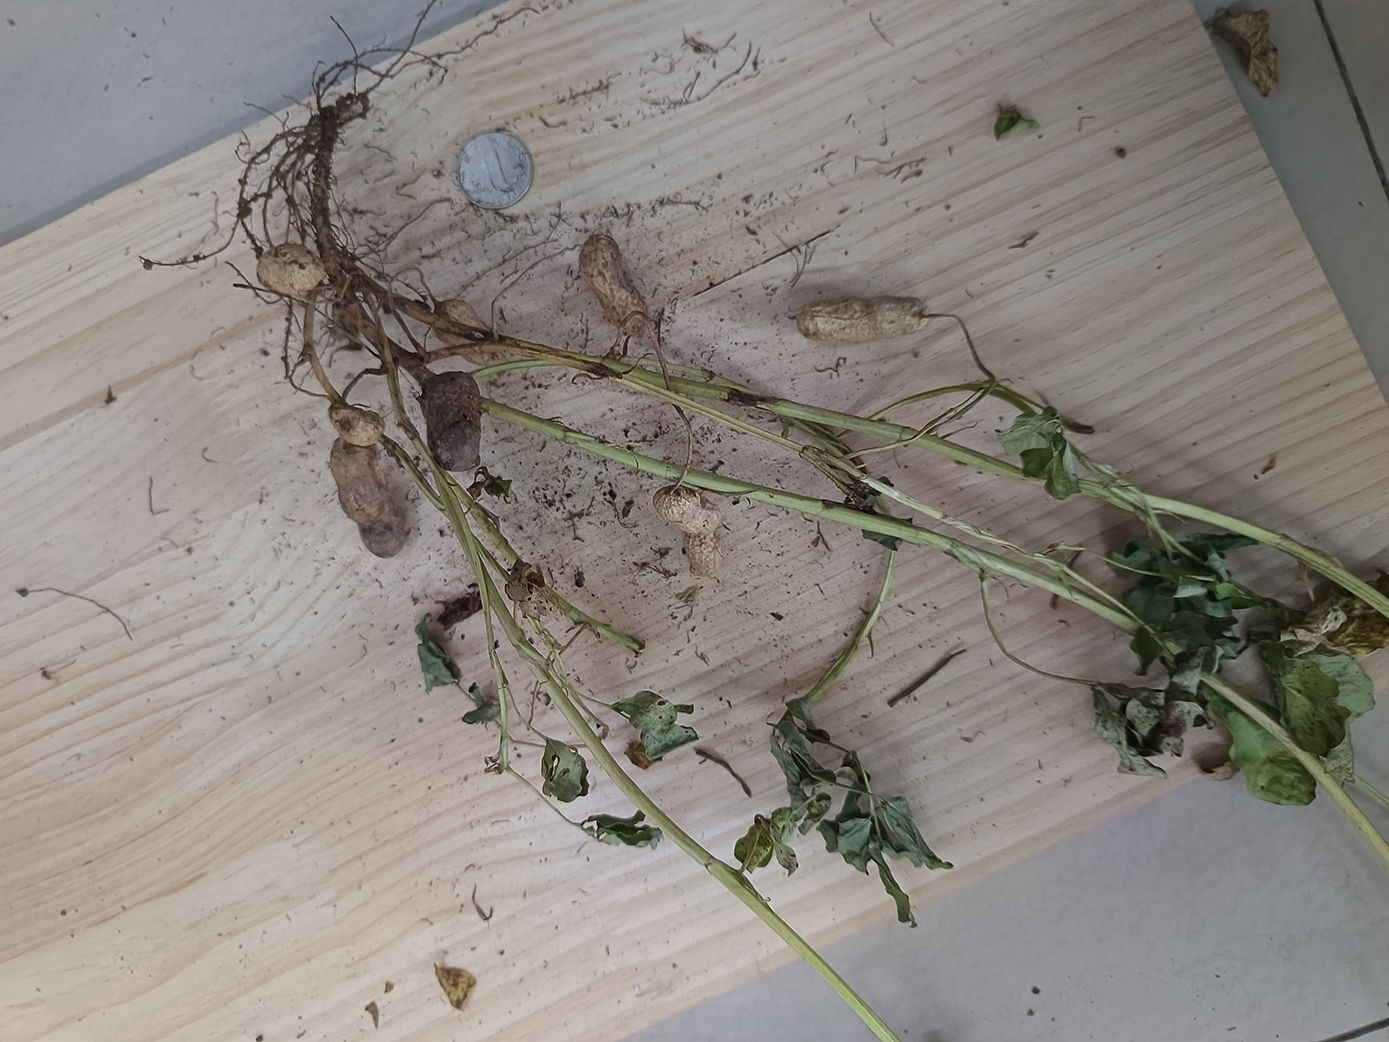h: (577, 233, 651, 337), (653, 483, 725, 577), (796, 296, 929, 341), (430, 297, 507, 368), (256, 242, 326, 296), (327, 401, 384, 448)
l: (329, 441, 408, 556), (423, 372, 481, 470)
